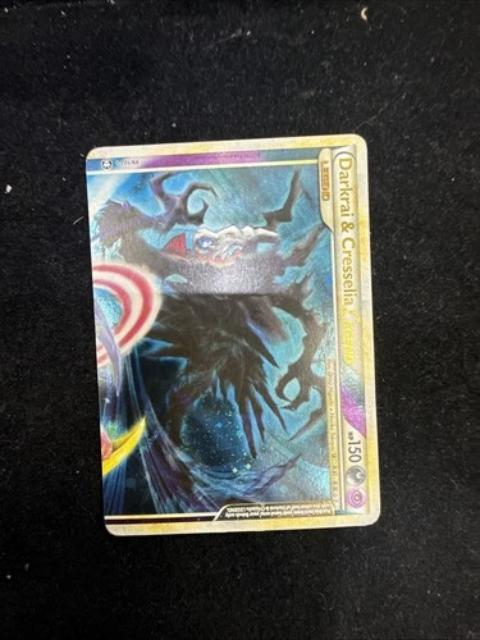Card: (83, 130, 384, 540)
Name: (332, 153, 364, 369)
